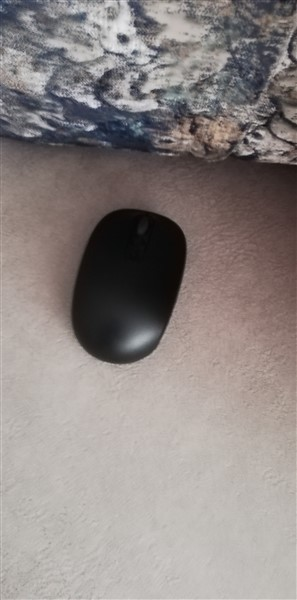mouse: (68, 206, 191, 368)
